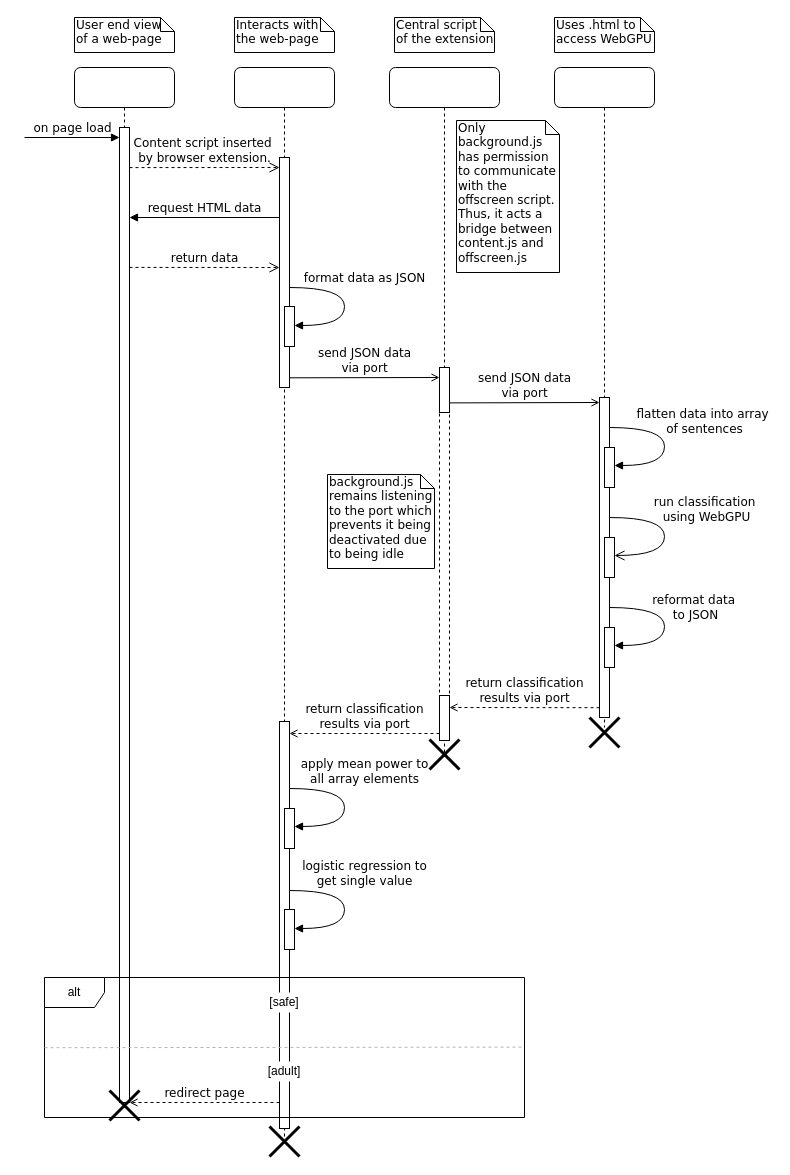
Image size: 790x1175. Some labels were removed from this diagram. The shapes that lost their labels are listed below. From the top down, each one's box as (x1, y1, x2, y2) in pixels, then its label:
(388, 66, 500, 754): background.js
(554, 66, 654, 728): offscreen.js
(74, 66, 174, 1102): web-page
(234, 66, 334, 1140): content.js
